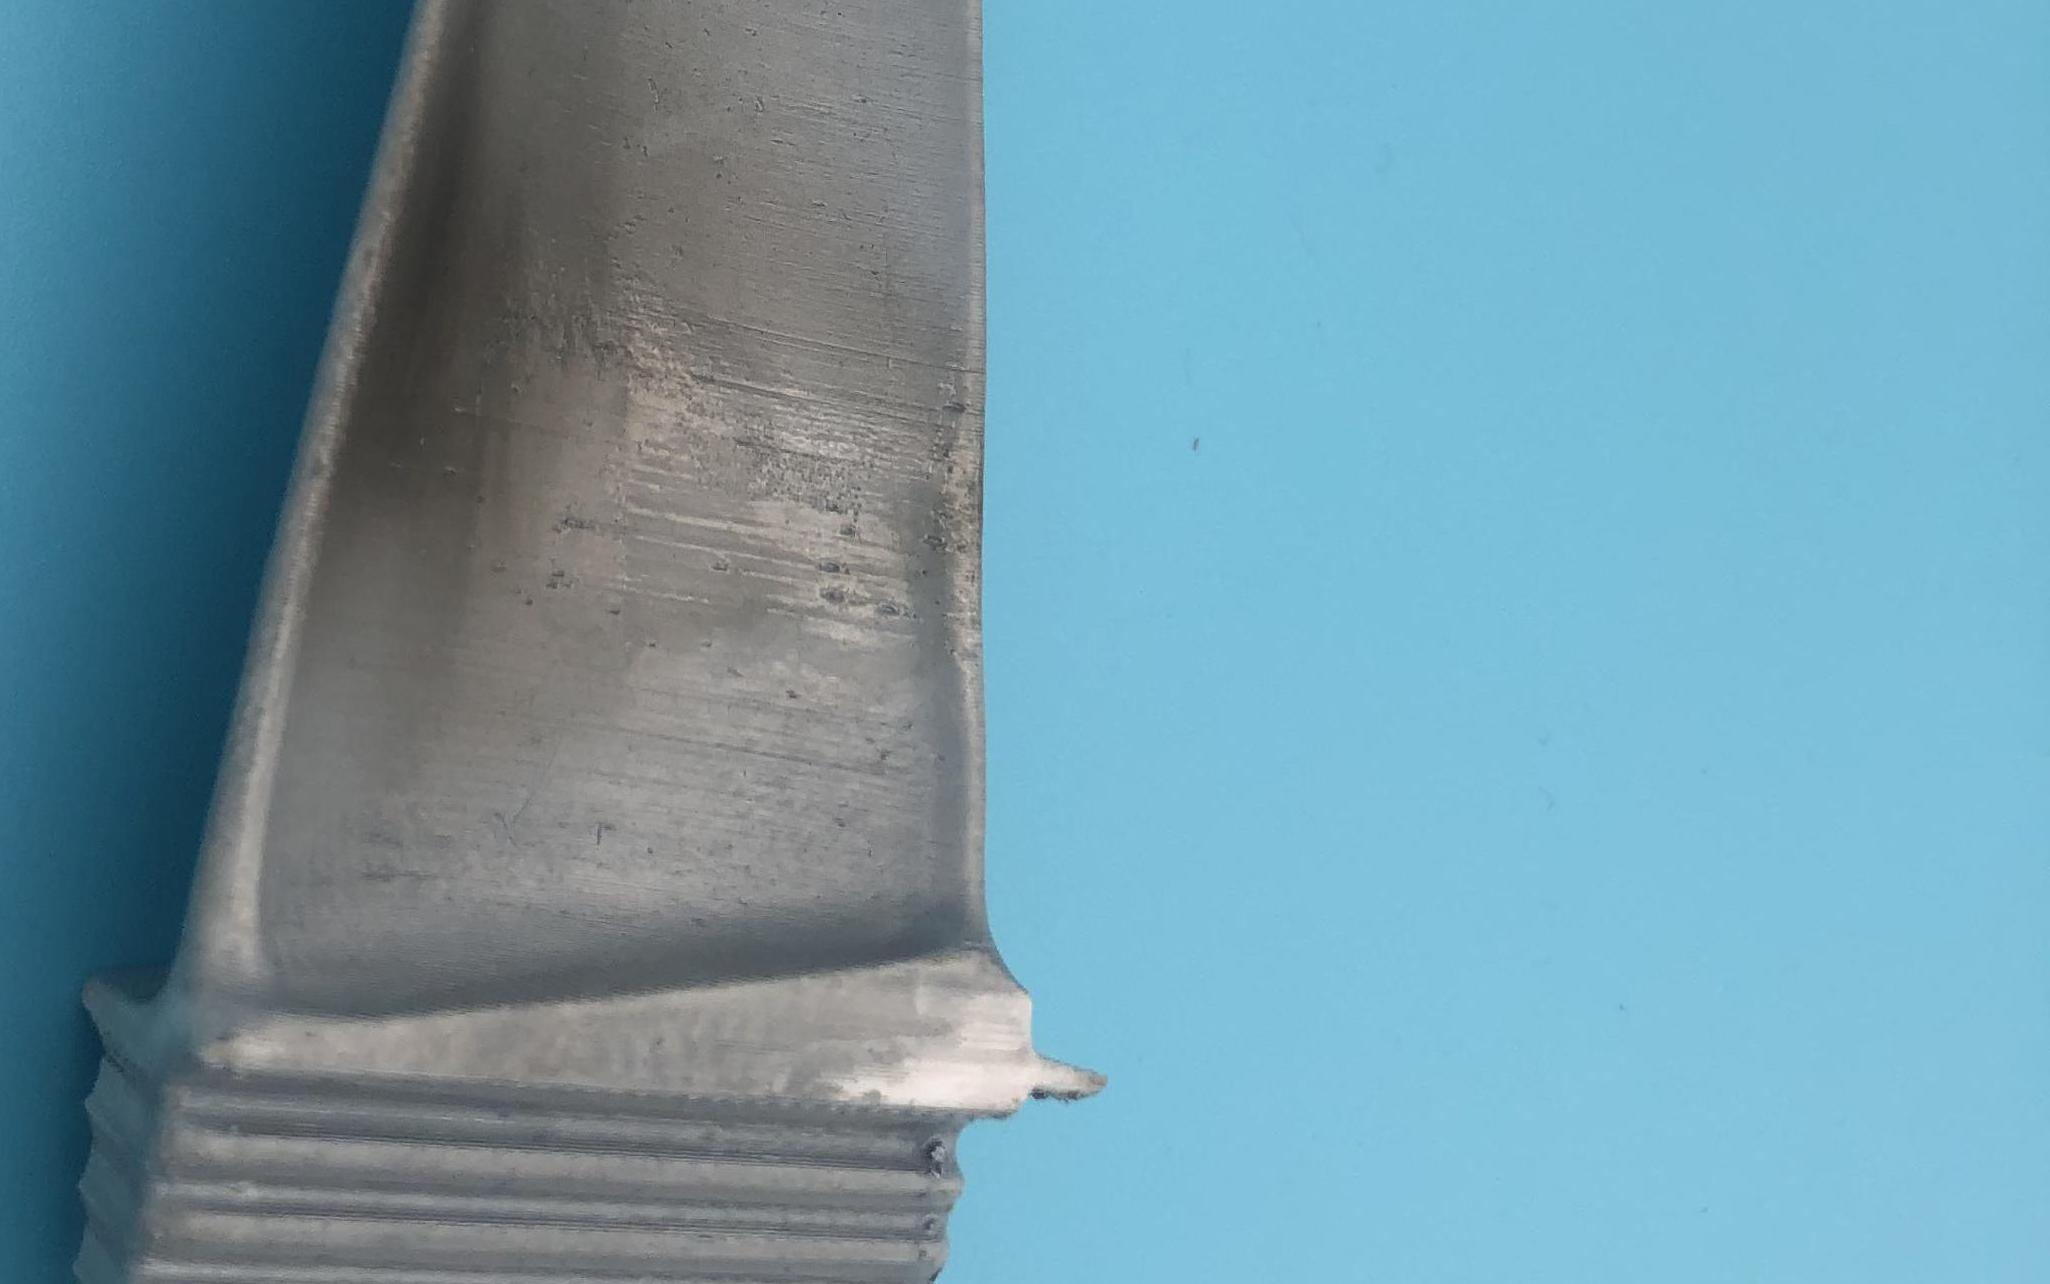ablation: (361, 179, 669, 479)
